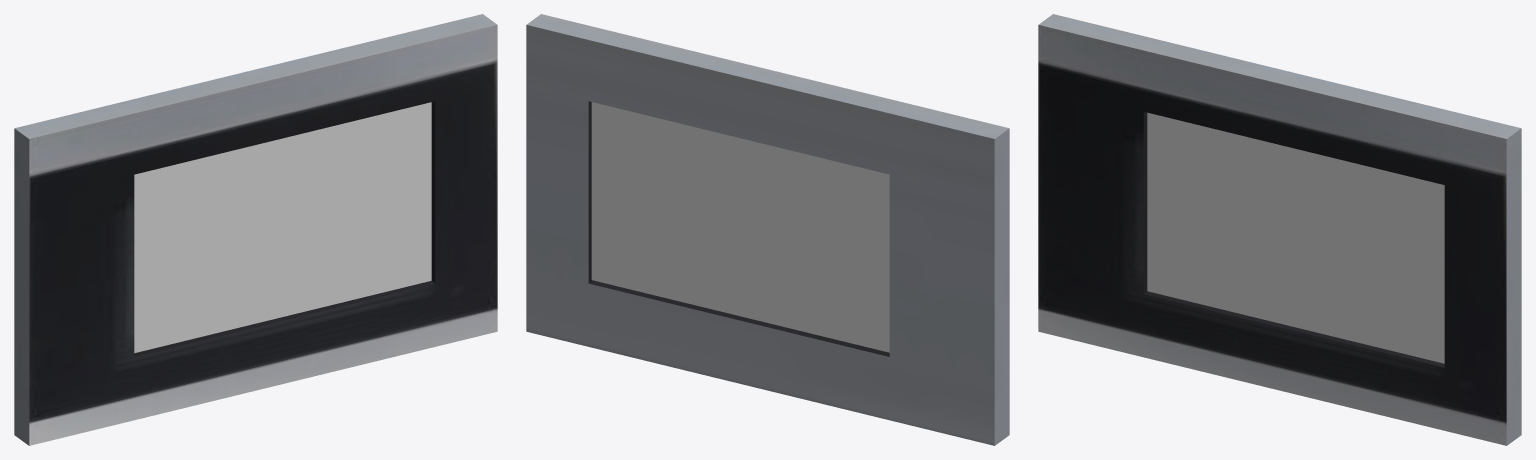
Rendered from Microwave_door_01.glb.
3 renders of one model, left to right at view 1: azimuth 30°, elevation 25°; view 2: azimuth 150°, elevation 25°; view 3: azimuth 330°, elevation 25°, orthographic.
Parts seen in each view (by area): view 1: Microwave_door_01; view 2: Microwave_door_01; view 3: Microwave_door_01.
Boxes of the visible parts, x1,y1,x2,y2 form: Microwave_door_01: (14,14,497,445); Microwave_door_01: (526,14,1009,445); Microwave_door_01: (1038,14,1521,445).
Bounding box in the file's own units: 0.5699 × 0.3568 × 0.0311.
Materials: 2 (1 with a texture image).
